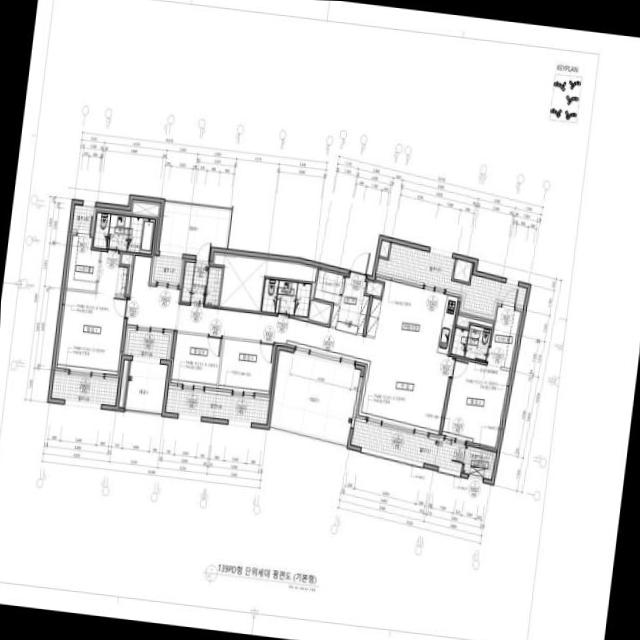background: (0, 0, 640, 640)
space_balconi: (376, 242, 526, 315), (269, 350, 360, 443), (350, 420, 465, 471), (158, 203, 230, 256), (165, 387, 269, 423), (124, 360, 167, 411), (50, 373, 117, 405), (181, 261, 221, 305), (126, 330, 169, 359), (153, 255, 181, 283), (71, 204, 93, 230)
space_bedroom: (56, 251, 127, 374), (441, 357, 509, 447), (218, 338, 274, 394), (170, 332, 222, 387)
space_dressroom: (487, 306, 520, 368), (66, 235, 99, 290)
space_front: (329, 276, 369, 334)
space_kitchen: (365, 276, 457, 354)
space_living_room: (126, 255, 452, 434)
space_other: (213, 254, 316, 310), (313, 269, 343, 303), (308, 299, 331, 323), (120, 253, 132, 294), (455, 314, 492, 327), (118, 359, 128, 407), (452, 258, 471, 281), (132, 201, 158, 216), (365, 281, 382, 296), (378, 240, 389, 257)
space_outdoor_room: (462, 445, 495, 479)
space_toilet: (93, 212, 154, 253), (261, 278, 310, 316), (450, 324, 491, 361)
